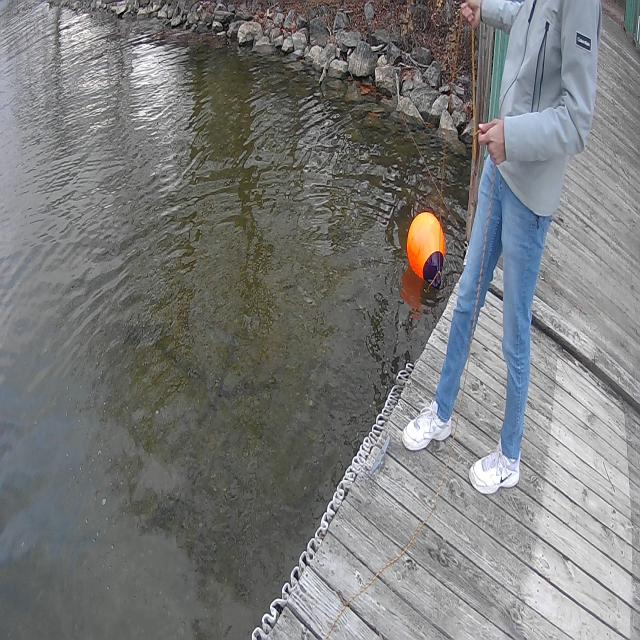Buoy: (402, 206, 449, 296)
